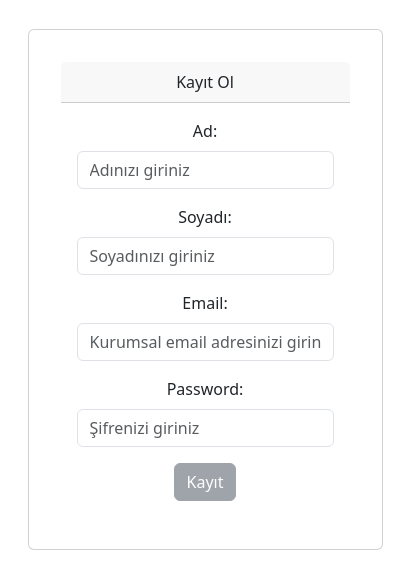
Scenario: Register Page › Error Messages › Surame input throws error for 2 chars
The width and height of the screenshot is (412, 579).
Type "şa" into the field labelled "Soyadı:".
click(206, 256); type("şa")  # box x1=77 y1=237 x2=334 y2=275
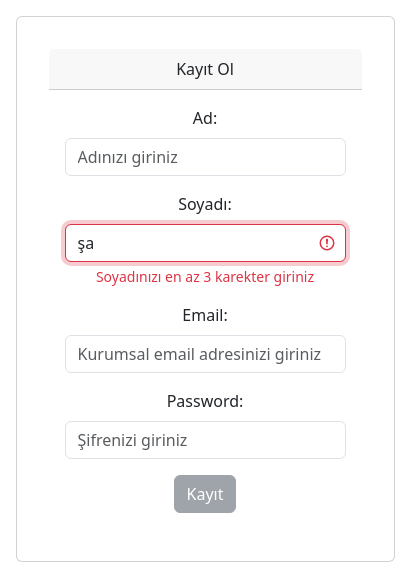
Result: the text "Soyadınızı en az 3 karekter giriniz" is shown at x1=96 y1=267 x2=314 y2=286
